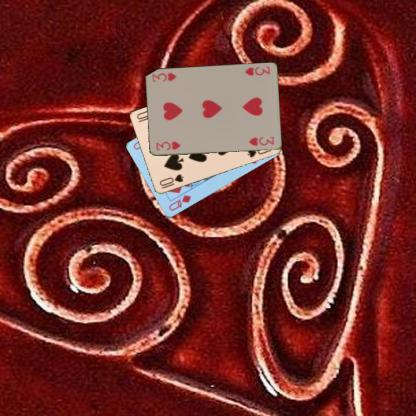10s: (156, 172, 185, 190)
3h: (242, 64, 271, 78), (153, 139, 182, 152)
Qd: (166, 192, 192, 212)
